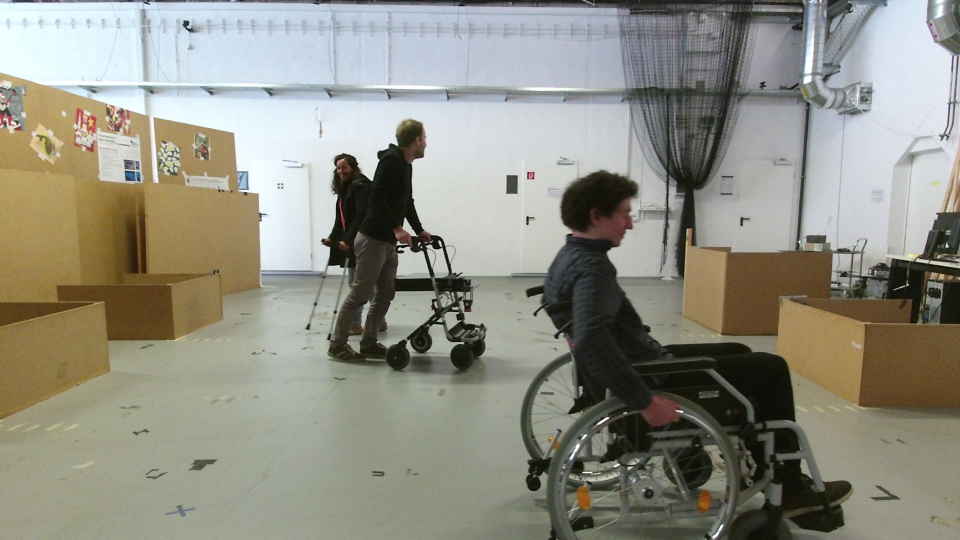crutches: (303, 146, 375, 336)
wheelchair: (517, 169, 855, 540)
